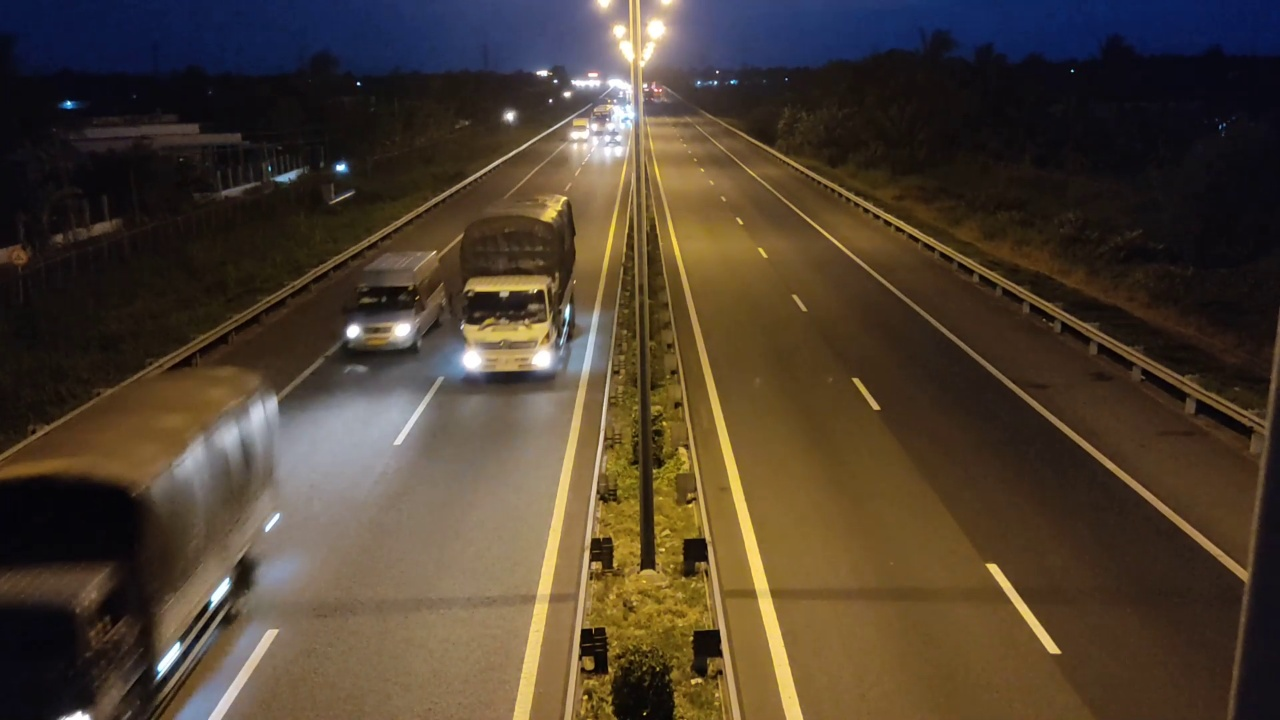car: (341, 246, 453, 354)
truck: (458, 192, 578, 382)
